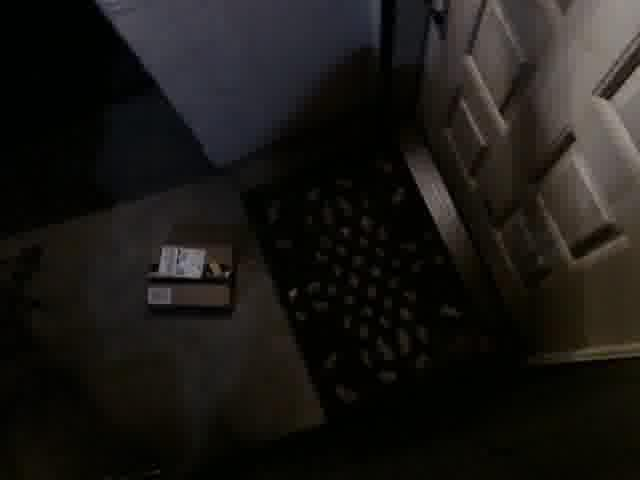box: (140, 243, 234, 317)
